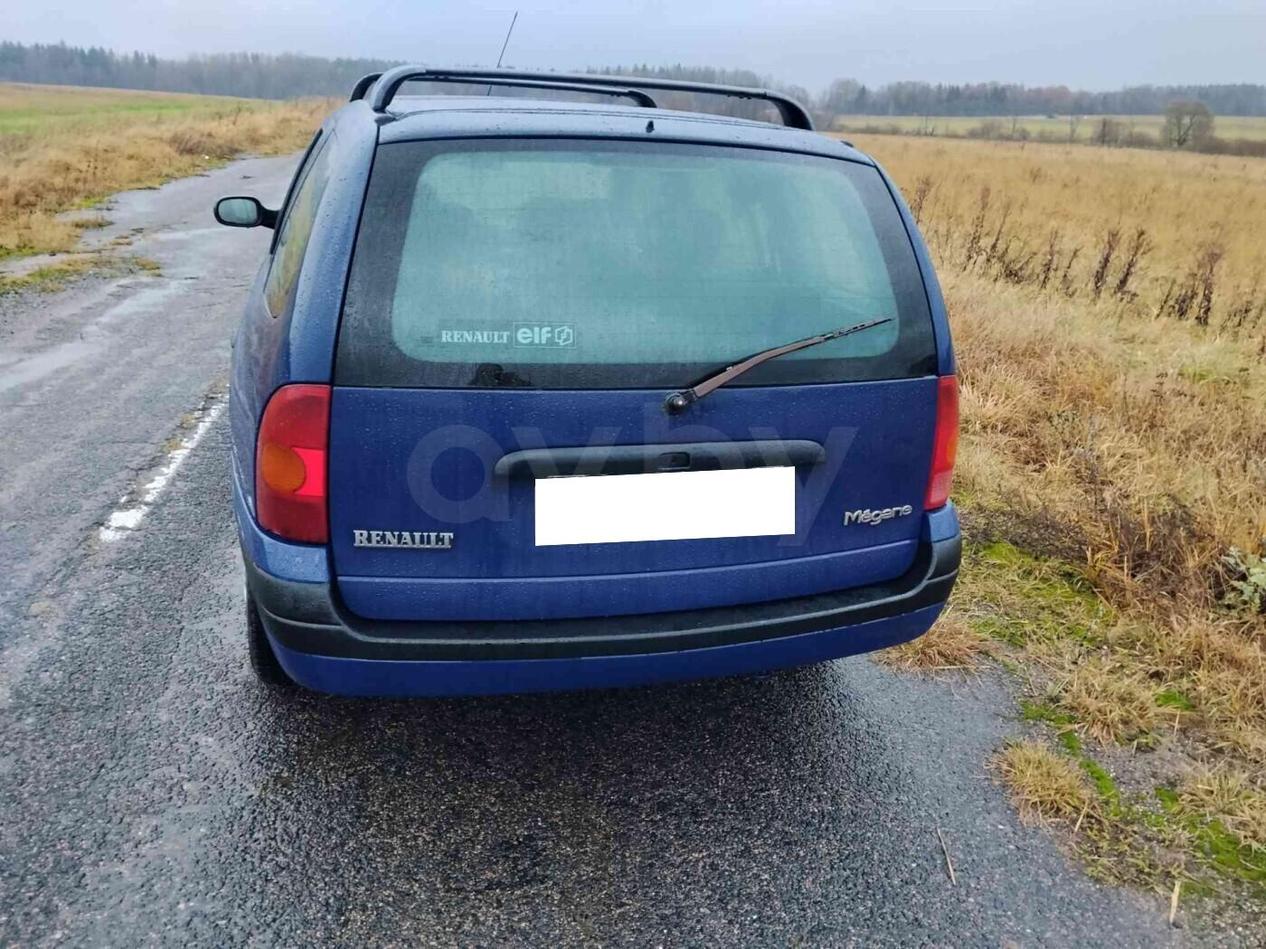Megane_1999-2003: (218, 81, 987, 739)
